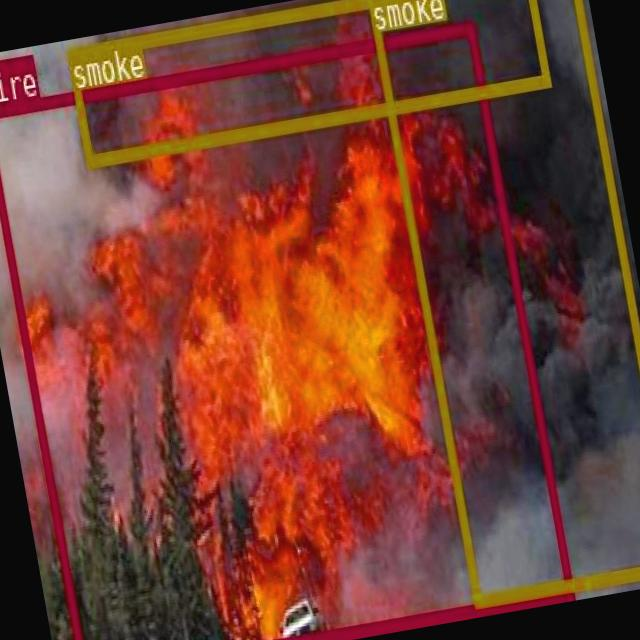fire: (0, 19, 571, 640)
smoke: (365, 0, 640, 604), (65, 0, 548, 165)
